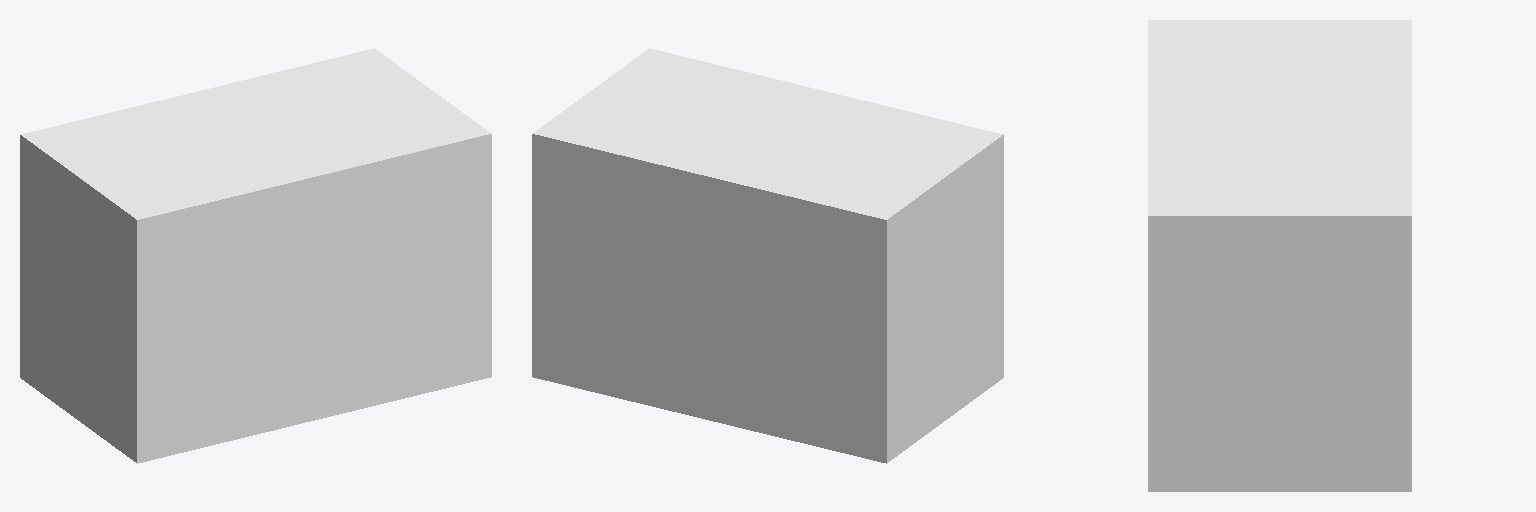
robot.urdf — table:
<?xml version="0.0" ?>
<robot name="table">
	<link name="tablelink">
		<inertial>
			<origin rpy="0.00000 -0.00000 0.00000" xyz="0.00000 0.00000 0.00000"/>
			<mass value="1090.88002"/>
			<inertia ixx="147.19399" ixy="0" ixz="0" iyy="277.05234" iyz="0" izz="258.75746"/>
		</inertial>
		<visual>
			<origin rpy="0.00000 -0.00000 0.00000" xyz="0.00000 0.00000 -0.02700"/>
			<geometry>
				<box size="1.40000 0.80000 0.05400"/>
			</geometry>
			<material name="mat_-1_0">
				<color rgba="1.00000 1.00000 1.00000 1.00000" />
			</material>
		</visual>
		<visual>
			<origin rpy="0.00000 -0.00000 0.00000" xyz="0.00000 0.00000 -0.65000"/>
			<geometry>
				<mesh filename="d:\dm_large_models\downstream_task\fmdm-simulator\app\gym_env\assets/assets_v2/objects/../objects/meshes/table/tablebody.stl" scale="1.00000 1.00000 1.00000"/>
			</geometry>
			<material name="mat_-1_1">
				<color rgba="1.00000 1.00000 1.00000 1.00000" />
			</material>
		</visual>
		<visual>
			<origin rpy="0.00000 -0.00000 0.00000" xyz="0.00000 0.00000 -0.46000"/>
			<geometry>
				<box size="1.40000 0.80000 0.92000"/>
			</geometry>
			<material name="mat_-1_2">
				<color rgba="1.00000 1.00000 1.00000 1.00000" />
			</material>
		</visual>
		<collision>
			<origin rpy="0.00000 -0.00000 0.00000" xyz="0.00000 0.00000 -0.02700"/>
			<geometry>
				<box size="1.40000 0.80000 0.05400"/>
			</geometry>
		</collision>
		<collision>
			<origin rpy="0.00000 -0.00000 0.00000" xyz="0.00000 0.00000 -0.65000"/>
			<geometry>
				<mesh filename="unknown_file" scale="1.00000 1.00000 1.00000"/>
			</geometry>
		</collision>
		<collision>
			<origin rpy="0.00000 -0.00000 0.00000" xyz="0.00000 0.00000 -0.46000"/>
			<geometry>
				<box size="1.40000 0.80000 0.92000"/>
			</geometry>
		</collision>
	</link>
</robot>

--- Facts derived from the render (not from the file) ---
Views: 3 orthographic renders of the robot side by side, from view 1: azimuth 30°, elevation 25°; view 2: azimuth 150°, elevation 25°; view 3: azimuth 270°, elevation 25°.
Model table with 1 links and 0 joints (none), rooted at tablelink, posed every joint at zero.
Links seen in each view (by area): view 1: tablelink; view 2: tablelink; view 3: tablelink.
Boxes of the visible links, bbox=[...] form: tablelink: bbox=[20, 48, 491, 463]; tablelink: bbox=[532, 48, 1003, 463]; tablelink: bbox=[1148, 20, 1411, 491].
Size in the robot's own frame: 1.4 by 0.8 by 0.92 metres.
Geometry: only primitive shapes (box / cylinder / sphere) drawn; not drawn: 1 mesh visual (reference in a form the renderer does not follow).